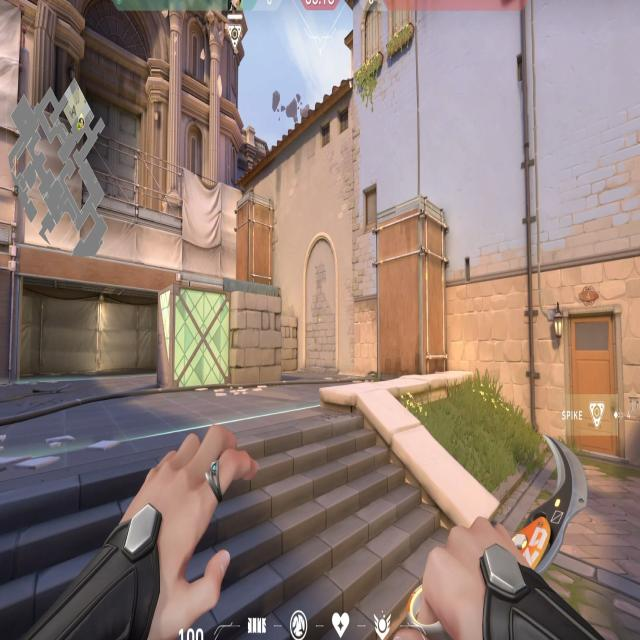A_Heaven_Box: (235, 189, 277, 288)
A_Hell: (4, 242, 195, 378)
A_Site_Box: (154, 283, 285, 387)
